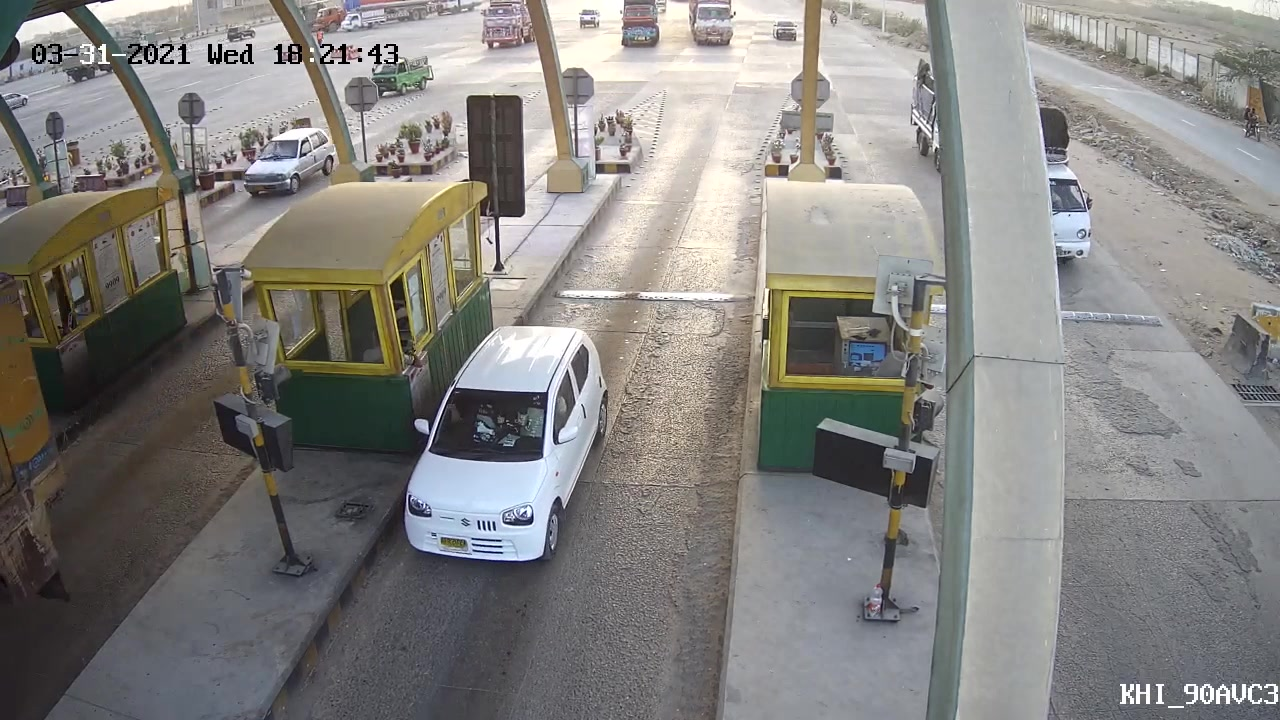F1: (390, 324, 621, 563)
